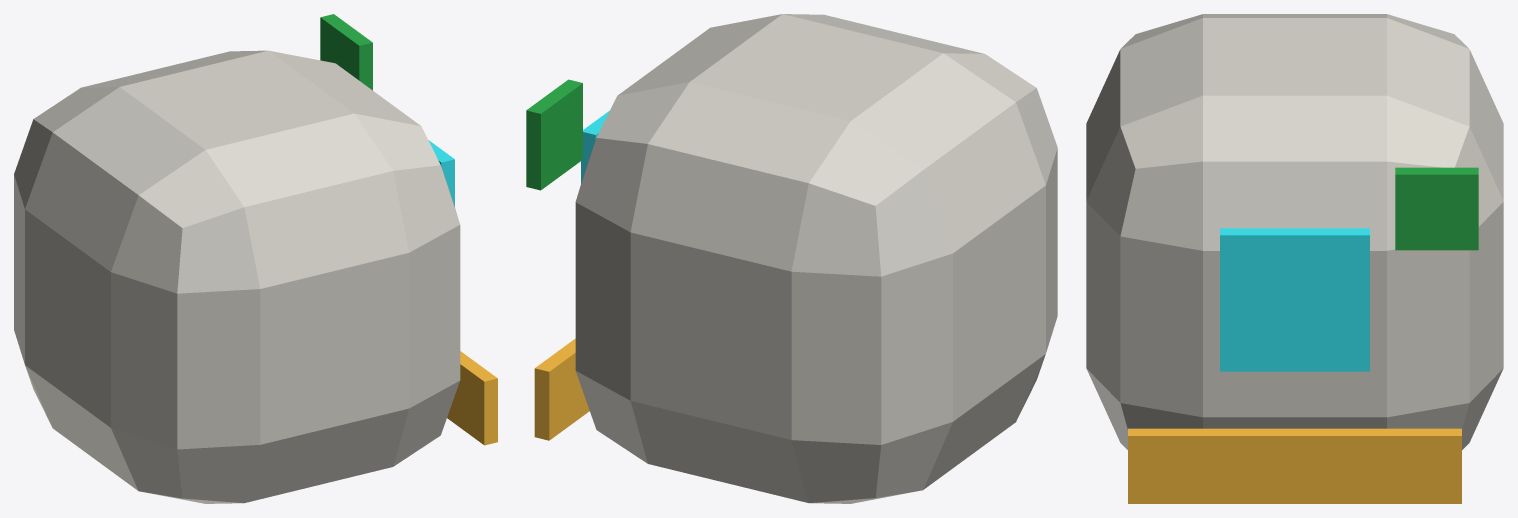
Rendered from prefab_boite.glb.
The picture shows the model from 3 angles, left to right: view 1: azimuth 30°, elevation 25°; view 2: azimuth 150°, elevation 25°; view 3: azimuth 270°, elevation 25°; orthographic projection. The views are drawn at different scales.
Parts seen in each view (by area): view 1: p_rbox.1242, p_box.4336, p_box.4337, p_box.4335; view 2: p_rbox.1242, p_box.4337, p_box.4336, p_box.4335; view 3: p_rbox.1242, p_box.4336, p_box.4335, p_box.4337.
Boxes of the visible parts, bbox=[...] form: p_rbox.1242: bbox=[14, 50, 460, 503]; p_box.4336: bbox=[447, 351, 497, 445]; p_box.4337: bbox=[320, 14, 372, 90]; p_box.4335: bbox=[428, 140, 454, 206]; p_rbox.1242: bbox=[575, 14, 1057, 503]; p_box.4337: bbox=[526, 79, 582, 190]; p_box.4336: bbox=[534, 338, 589, 440]; p_box.4335: bbox=[581, 110, 609, 183]; p_rbox.1242: bbox=[1086, 14, 1503, 449]; p_box.4336: bbox=[1128, 428, 1461, 503]; p_box.4335: bbox=[1220, 228, 1369, 371]; p_box.4337: bbox=[1395, 167, 1478, 250].
Size of the model in its own units: 1.25 by 1.2 by 1.2.
